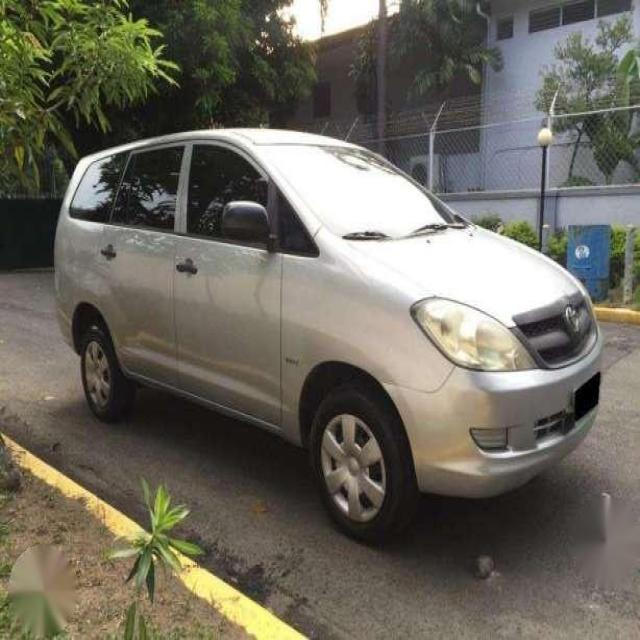light_vehicle: (51, 125, 603, 543)
